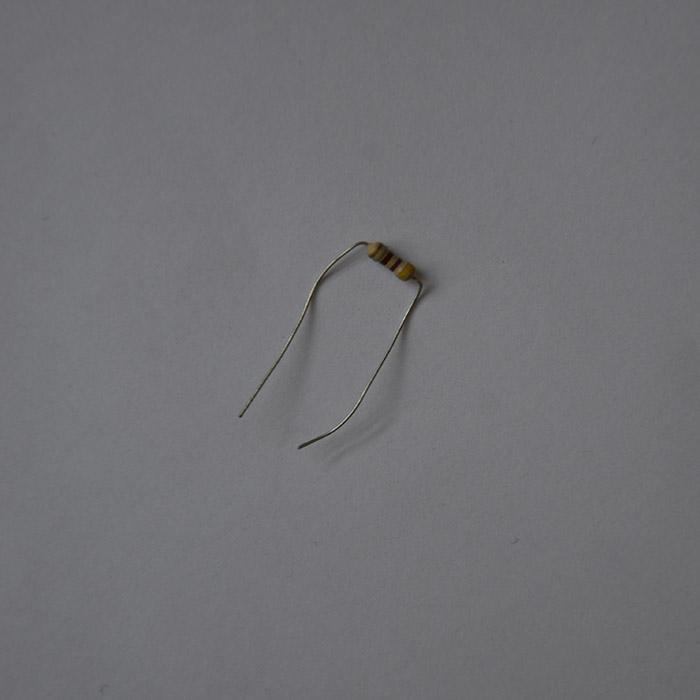resistor: (368, 241, 416, 283)
